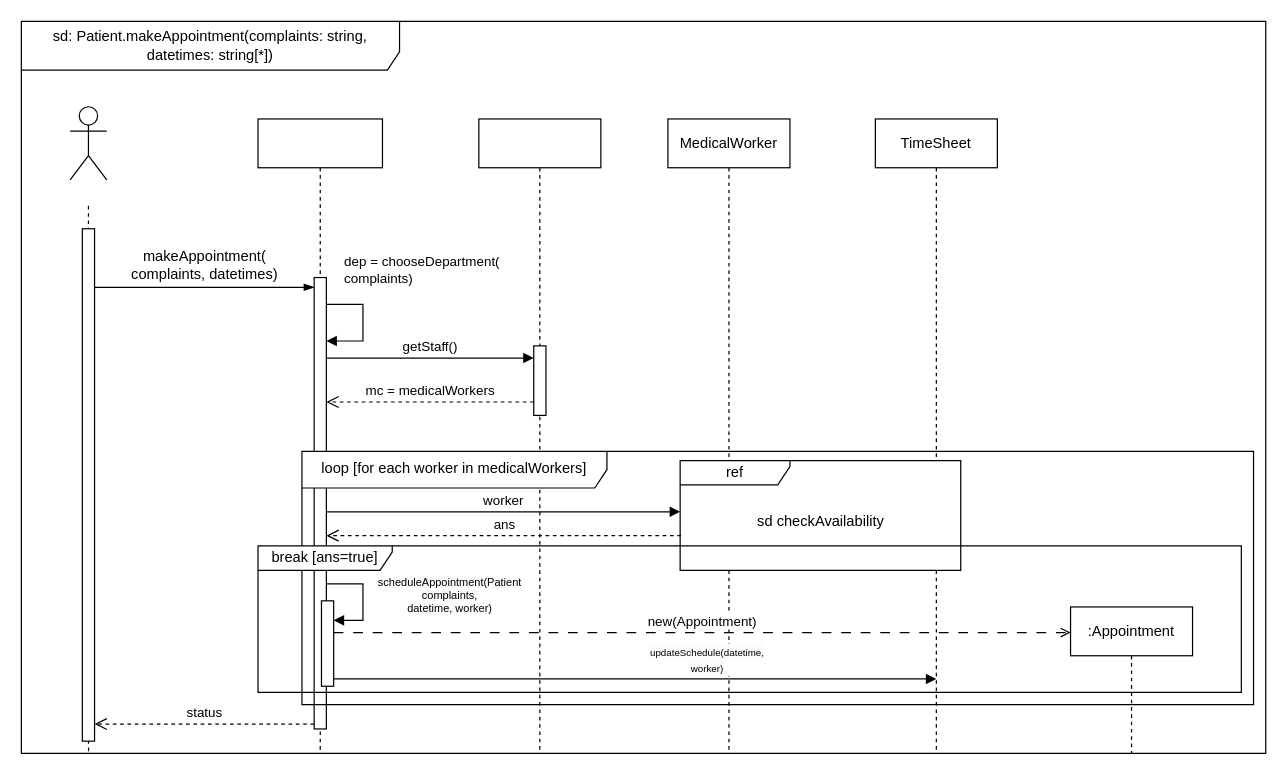
Image size: 1287x775. Some labels were removed from this diagram. Here are the shapes that lost their labels. From the top down, the centre of each, then its label:
At point (88, 143): "Patient".
At point (319, 435): "Reception".
At point (539, 435): "Department".
